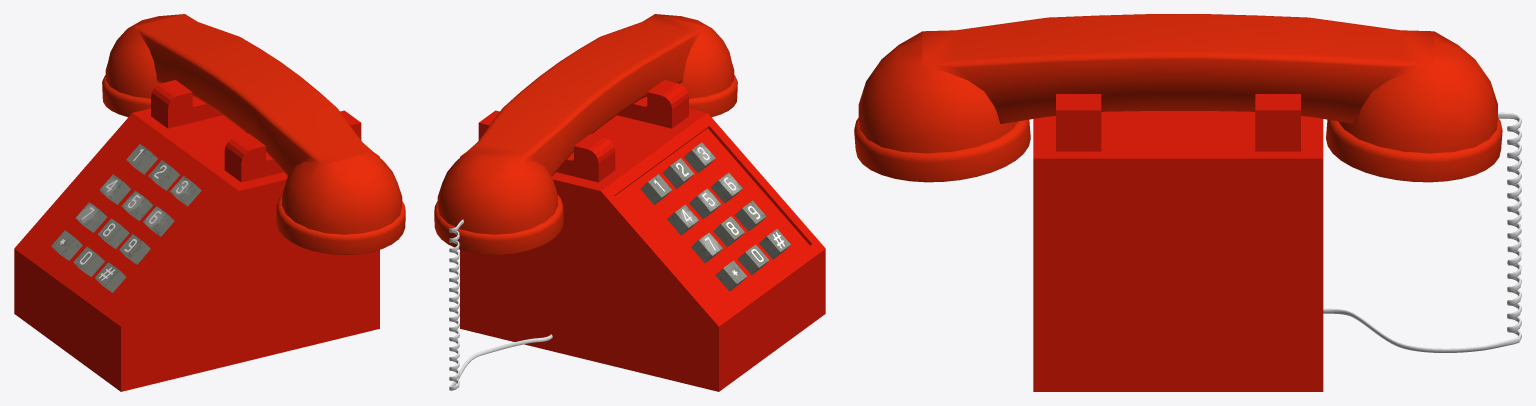
Rendered from Phone.glb.
3 views of the same model, side by side, from view 1: azimuth 30°, elevation 25°; view 2: azimuth 150°, elevation 25°; view 3: azimuth 270°, elevation 25° (orthographic). The views are drawn at different scales.
Parts seen in each view (by area): view 1: Base.001, Reciever.001, Numbers; view 2: Base.001, Reciever.001, Numbers, BezierCurve; view 3: Base.001, Reciever.001, BezierCurve.
Part boxes in pixels (x1,y1,x2,y2): Base.001: (14, 80, 379, 391); Reciever.001: (102, 14, 405, 254); Numbers: (51, 144, 201, 292); Base.001: (460, 80, 825, 391); Reciever.001: (434, 14, 737, 254); Numbers: (640, 142, 790, 291); BezierCurve: (449, 219, 552, 390); Base.001: (1033, 94, 1323, 391); Reciever.001: (854, 14, 1502, 182); BezierCurve: (1323, 112, 1521, 352).
Bounding box in the file's own units: 0.1778 × 0.1517 × 0.2927.
4 materials, 1 textured.
